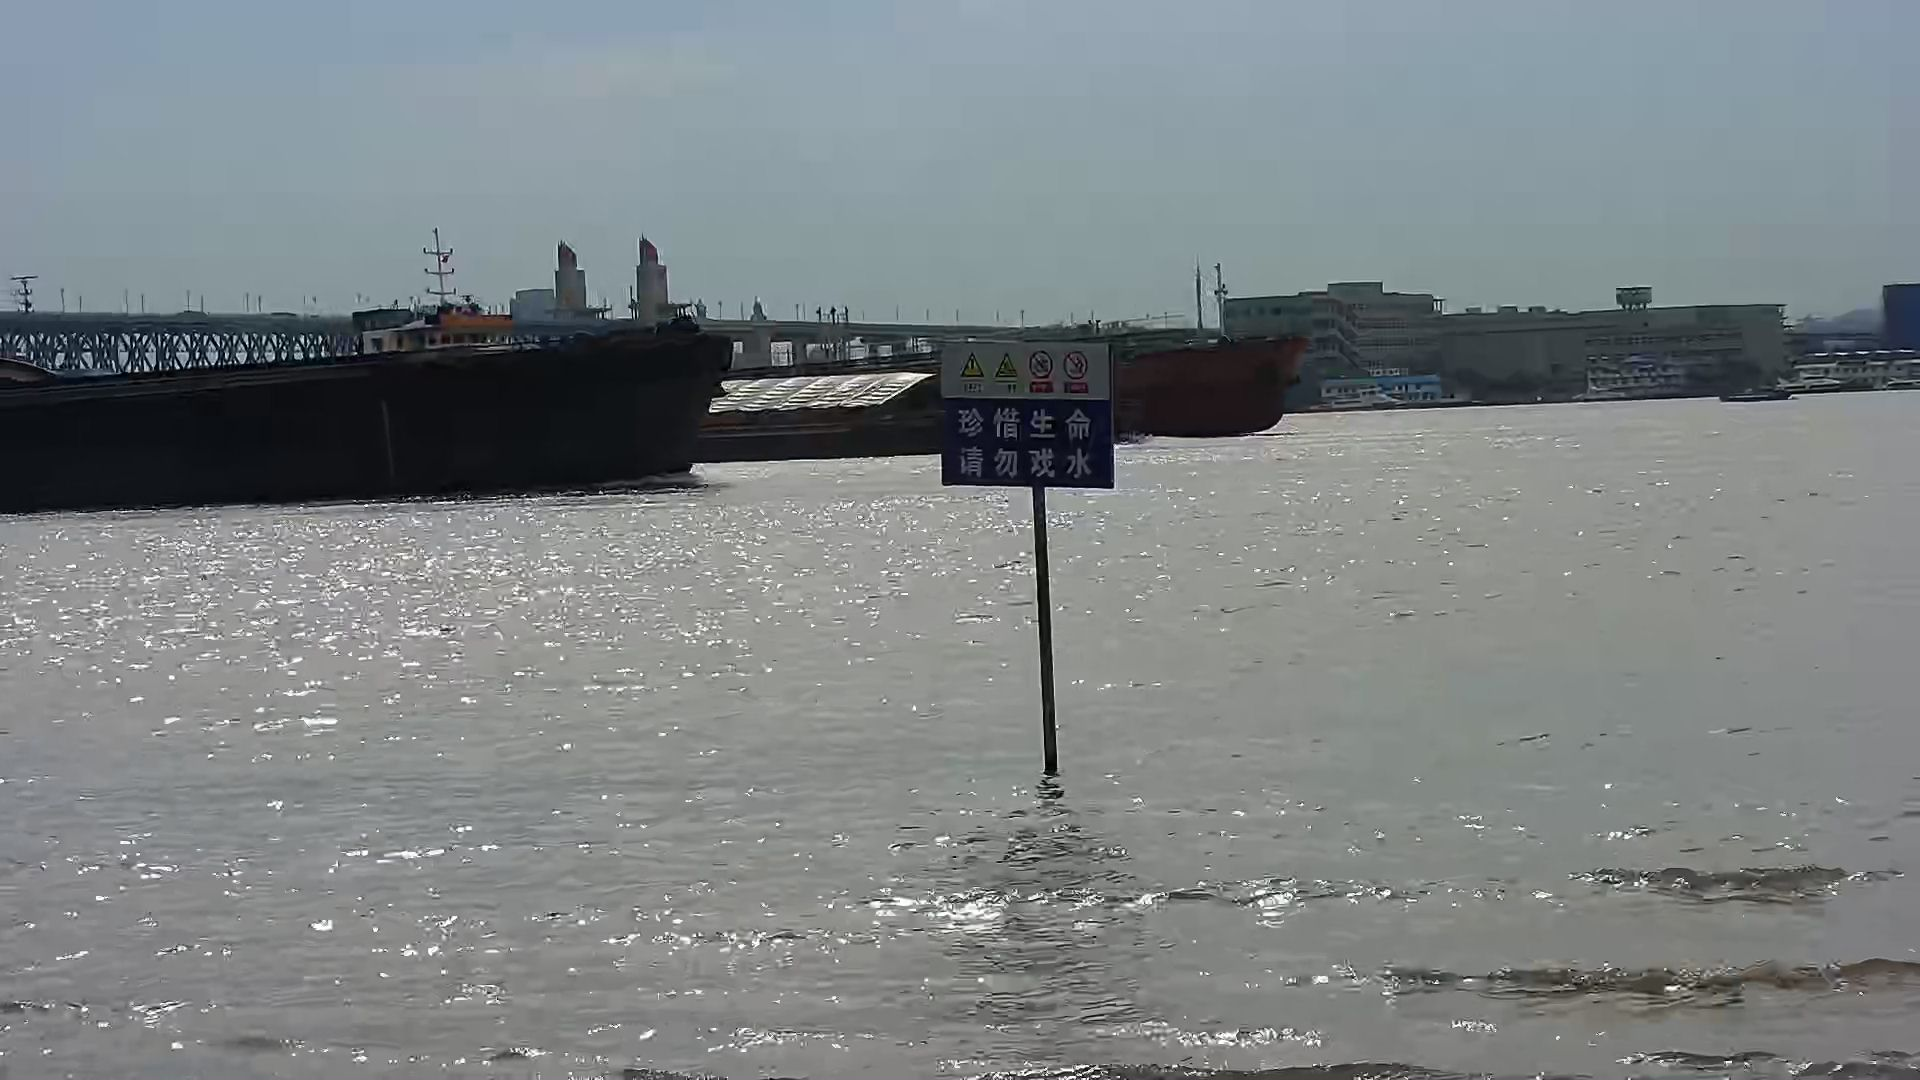boat: (1720, 388, 1791, 402)
bridge: (1, 293, 629, 367)
mast: (942, 342, 1116, 775)
ship: (1, 229, 733, 513), (1110, 328, 1312, 446), (702, 375, 943, 462)
